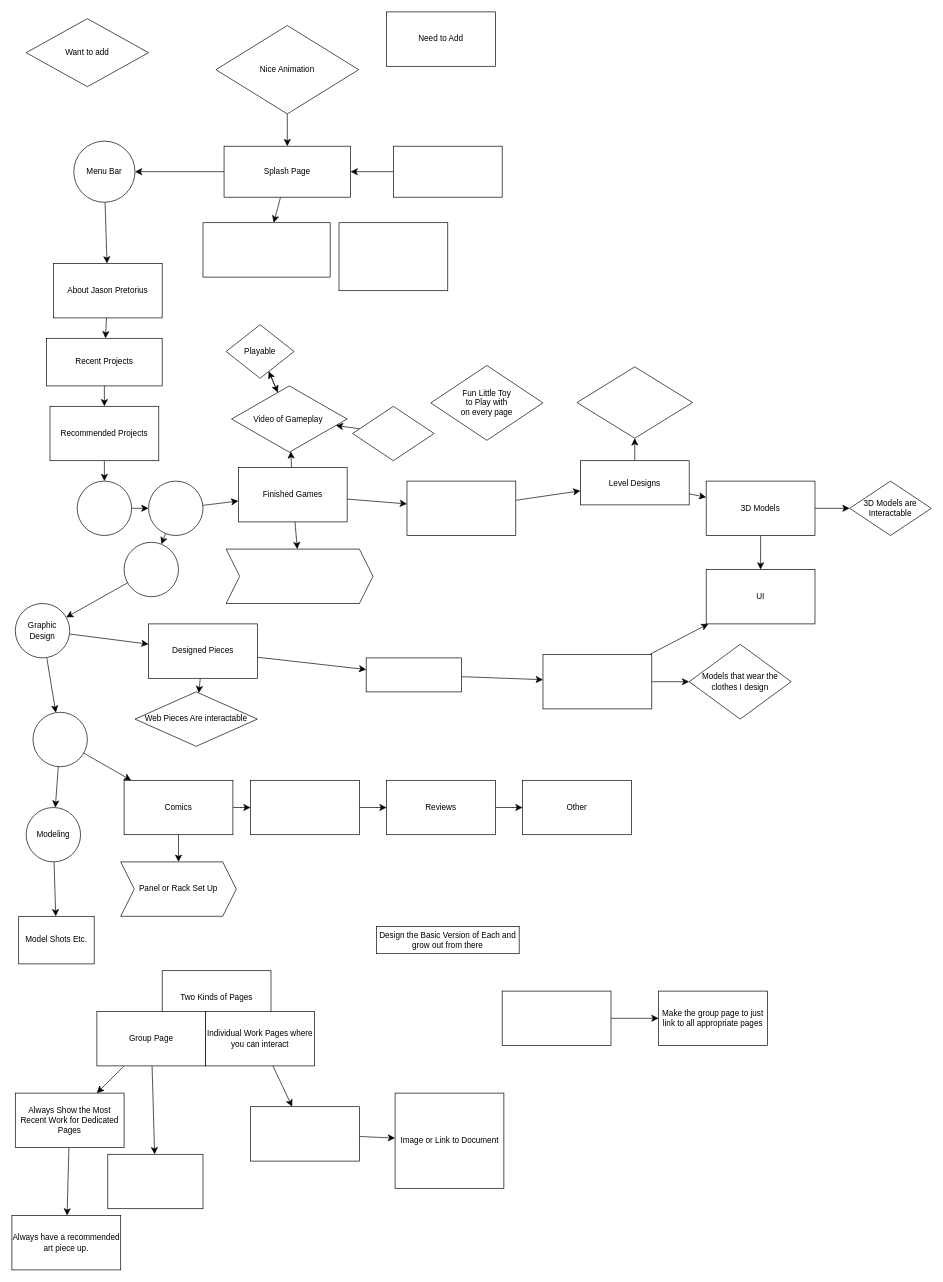
Some shapes in this 943 by 1282 pixel diagram are drawn without their labels. The shapes that lost their labels are listed below. From the top down, each one's box as (x1, y1, x2, y2) in pixels, then its label:
(393, 146, 502, 197): Switch between English and Japanese
(202, 222, 330, 277): Sample of most Recent Work
(338, 222, 448, 291): Basic Explanation of who and what I do
(576, 366, 693, 438): Videos of design in action
(352, 406, 434, 461): Downloadable
(76, 480, 132, 536): Portfolio Pieces
(148, 480, 203, 536): Game Dev
(406, 480, 516, 536): Board Game Explanations
(123, 542, 178, 597): Other Programs
(225, 548, 373, 604): Cartridges you can choose from
(366, 657, 461, 692): Logo Design
(542, 654, 652, 709): T-Shirt Designs
(32, 712, 87, 767): Writing
(250, 780, 359, 835): Stories
(502, 990, 611, 1046): Start with an important individual page and then grow out from there.
(250, 1106, 359, 1161): Explanation
(107, 1154, 203, 1209): Appropriate Arrangement for Each Category
